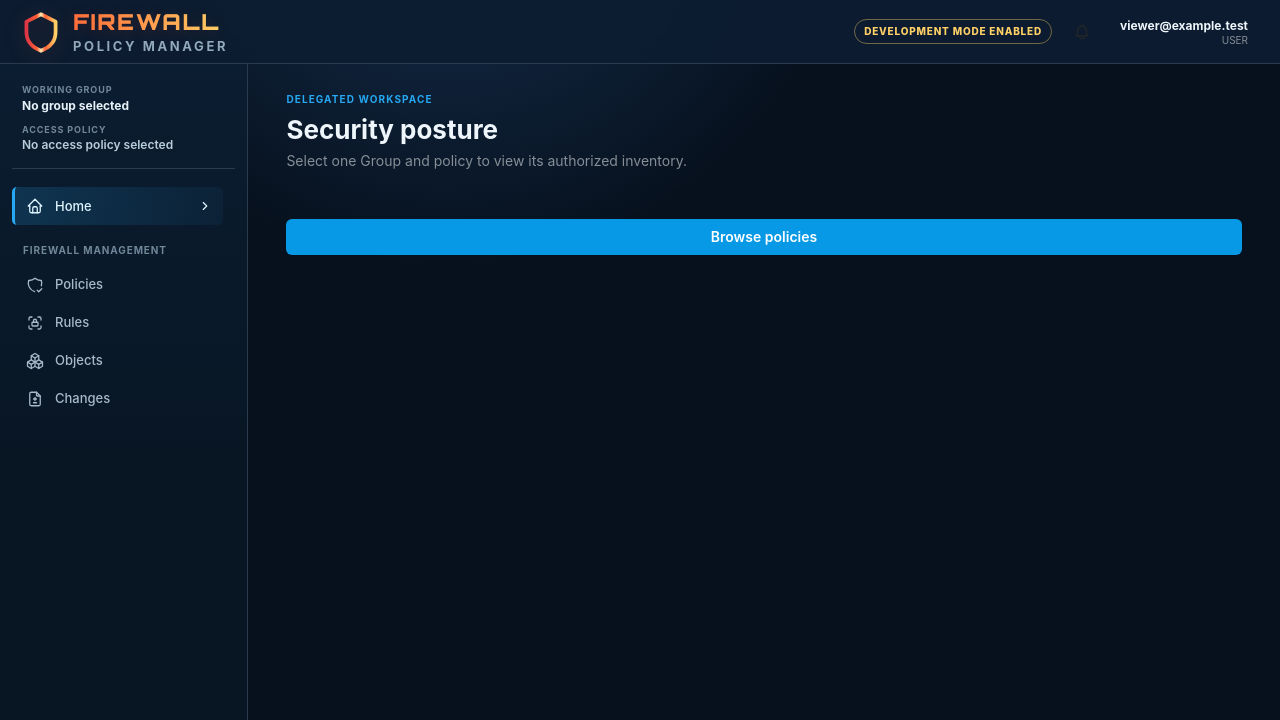
Test case: OverviewPage › keeps delegated features unavailable when the User has no Group
Click the button "Rules". click: (118,323)
box: [12,304,223,342]
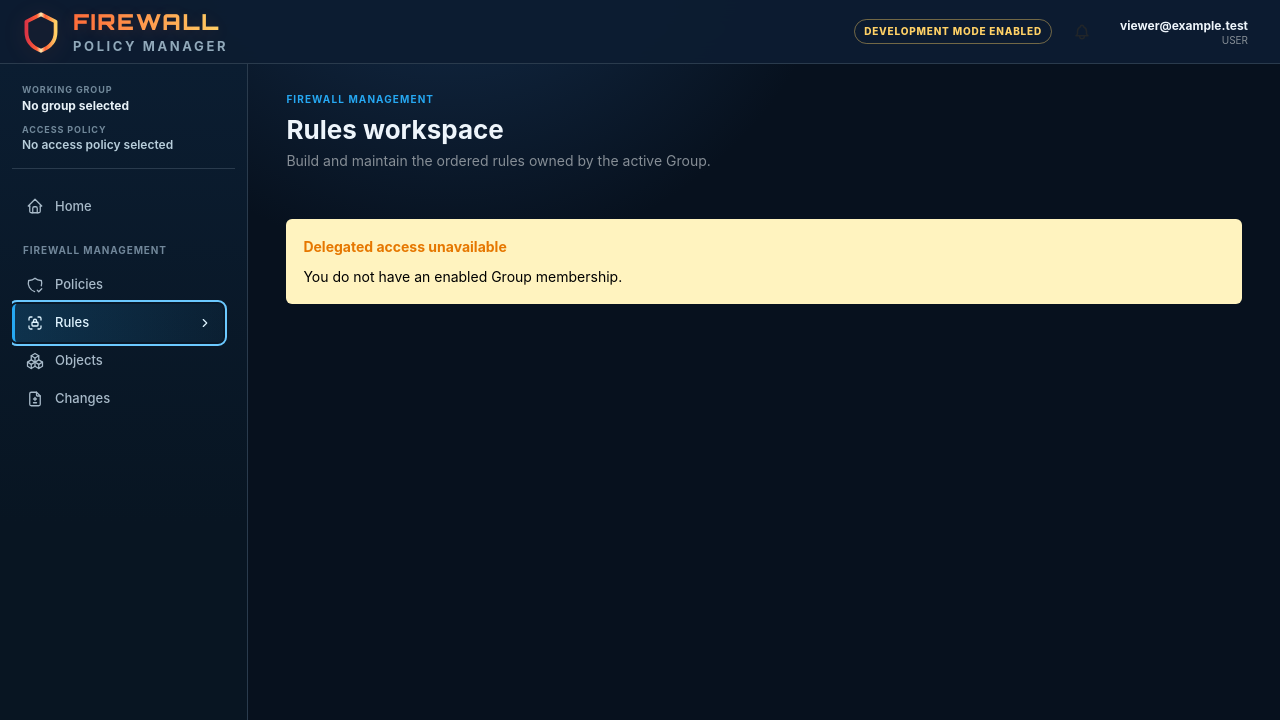
Result: the text "You do not have an enabled Group membership." is shown at [303,268,622,285]
